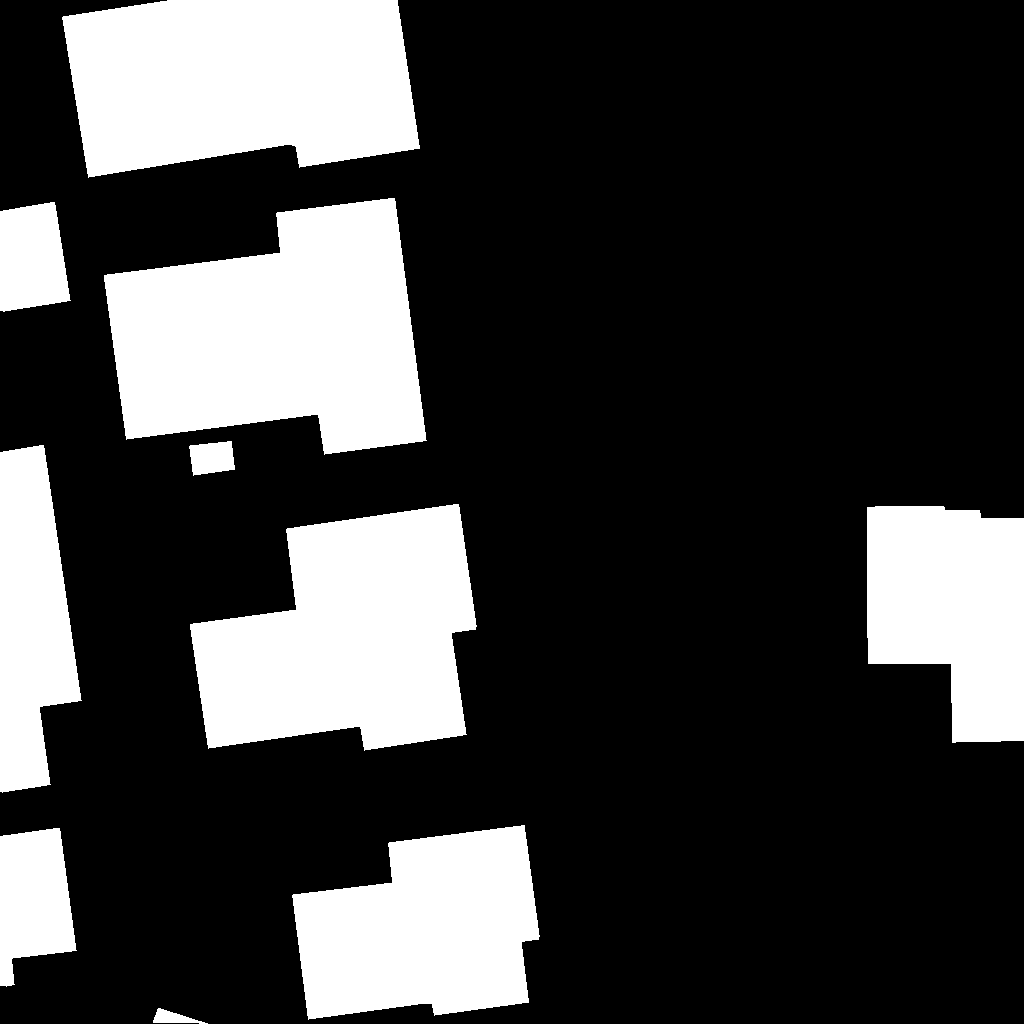building: (104, 198, 427, 455), (190, 504, 477, 751), (62, 0, 421, 178), (292, 825, 540, 1020), (867, 506, 1024, 743), (0, 445, 82, 793), (0, 828, 77, 987), (0, 202, 71, 312), (189, 441, 236, 476), (153, 1008, 209, 1024)
